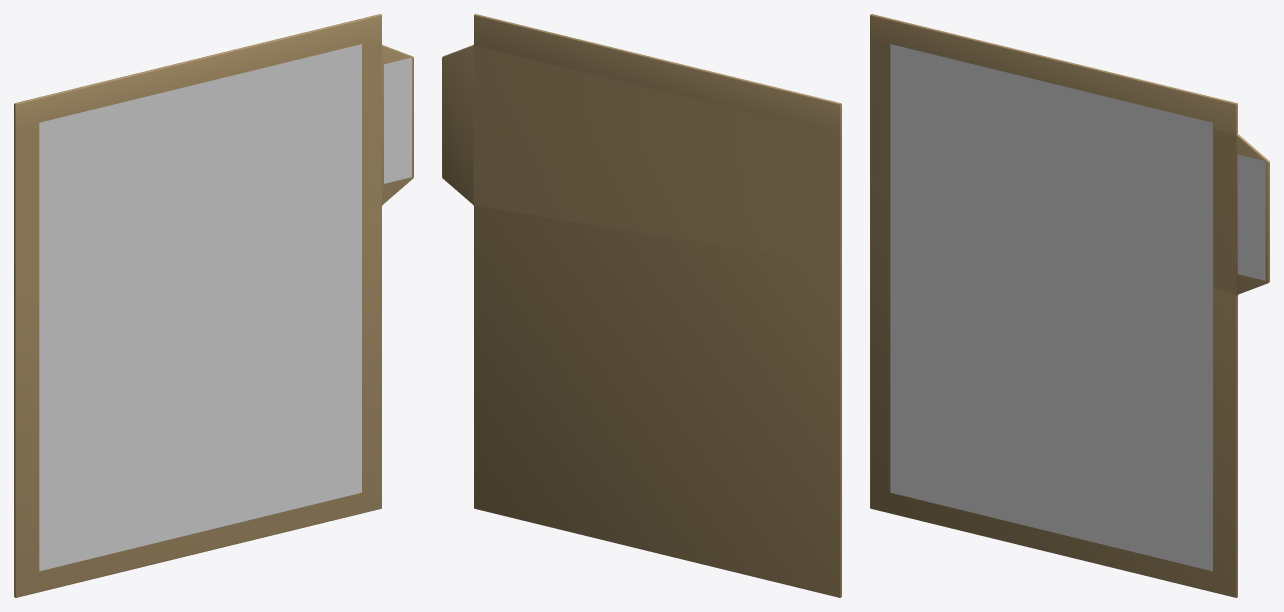
File: Protocols.fbx
The picture shows the model from 3 angles, left to right: view 1: azimuth 30°, elevation 25°; view 2: azimuth 150°, elevation 25°; view 3: azimuth 330°, elevation 25°; orthographic projection.
Parts seen in each view (by area): view 1: Protocols; view 2: Protocols; view 3: Protocols.
Boxes of the visible parts, box(x1,y1,x2,y2) form: Protocols: box(14, 14, 413, 597); Protocols: box(442, 14, 841, 597); Protocols: box(870, 14, 1269, 597).
Size of the model in its own units: 515 by 610 by 7.1.
